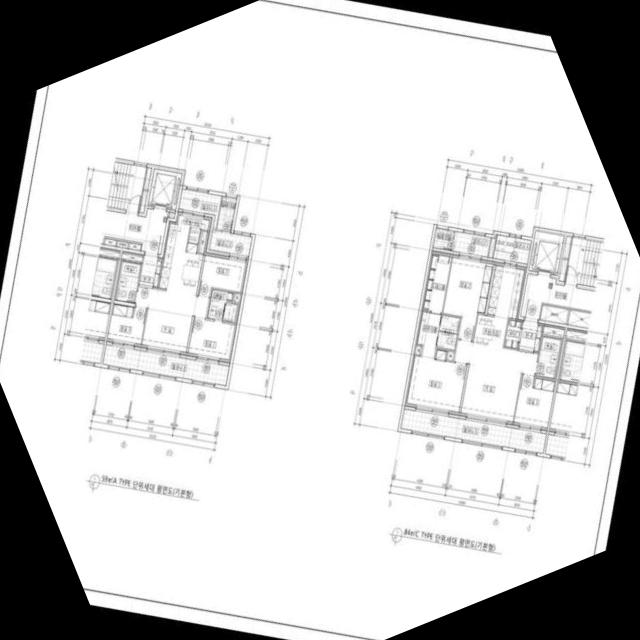background: (0, 0, 640, 640)
space_balconi: (400, 409, 545, 453), (102, 344, 228, 385), (178, 189, 251, 259), (492, 234, 530, 263), (451, 231, 489, 256)
space_bedroom: (442, 254, 493, 340), (404, 349, 466, 414), (512, 374, 554, 430), (197, 252, 247, 296), (187, 317, 235, 362), (106, 303, 146, 346)
space_dressroom: (421, 251, 451, 312), (415, 311, 440, 359)
space_elevator: (528, 230, 563, 274), (147, 168, 181, 209)
space_elevator_hall: (520, 273, 594, 319), (99, 208, 167, 254)
space_front: (138, 255, 162, 288), (518, 320, 542, 352)
space_kitchen: (472, 262, 525, 347), (158, 212, 211, 296)
space_living_room: (453, 339, 537, 424), (134, 286, 208, 354)
space_other: (558, 235, 570, 281), (539, 304, 568, 323), (139, 167, 151, 212), (503, 319, 521, 348), (566, 309, 590, 328), (542, 324, 564, 337), (197, 231, 208, 253), (120, 251, 142, 262), (487, 234, 495, 257), (103, 238, 115, 246), (128, 242, 140, 250), (116, 240, 127, 248), (233, 293, 241, 302), (413, 345, 421, 354), (446, 351, 453, 360), (168, 212, 174, 218)
space_outdoor_room: (216, 196, 235, 231), (432, 227, 453, 250)
space_staircase: (106, 161, 145, 212), (564, 237, 602, 287)
space_toilet: (535, 335, 561, 378), (115, 261, 140, 302), (206, 289, 236, 322), (435, 331, 456, 350), (438, 314, 459, 333)
